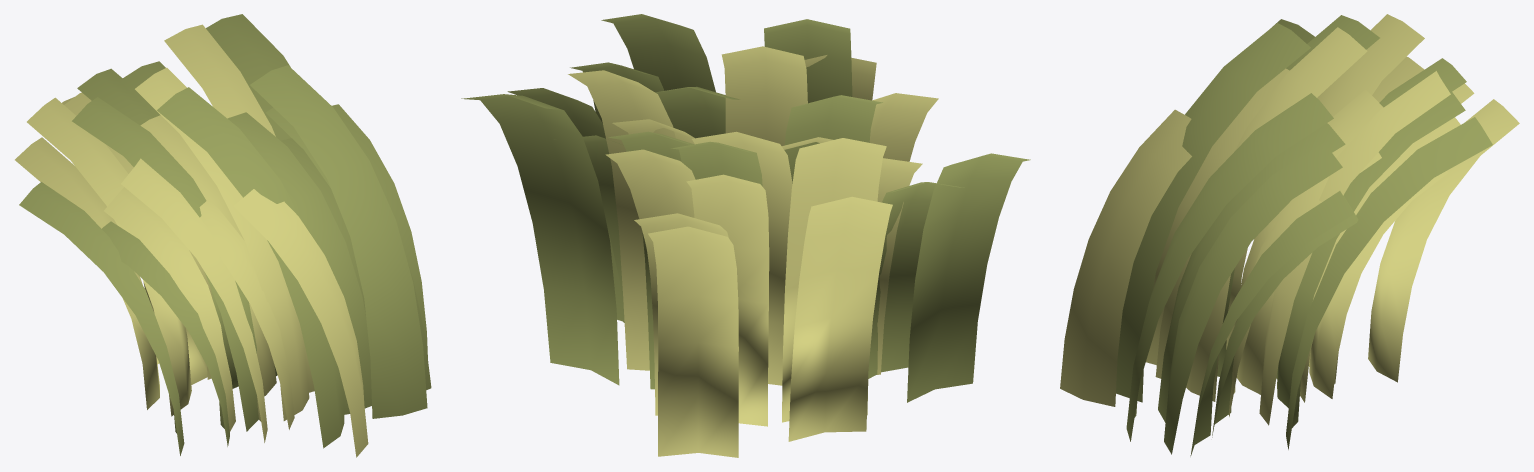
The model's file is prop_sea_grass_3.glb.
The picture shows the model from 3 angles, left to right: view 1: azimuth 30°, elevation 25°; view 2: azimuth 150°, elevation 25°; view 3: azimuth 270°, elevation 25°; orthographic projection. The views are drawn at different scales.
Parts seen in each view (by area): view 1: sea_grass; view 2: sea_grass; view 3: sea_grass.
Boxes of the visible parts, bbox=[...] form: sea_grass: bbox=[15, 14, 431, 457]; sea_grass: bbox=[461, 14, 1030, 457]; sea_grass: bbox=[1060, 14, 1519, 456].
Size of the model in its own units: 1.21 by 0.9427 by 1.22.
